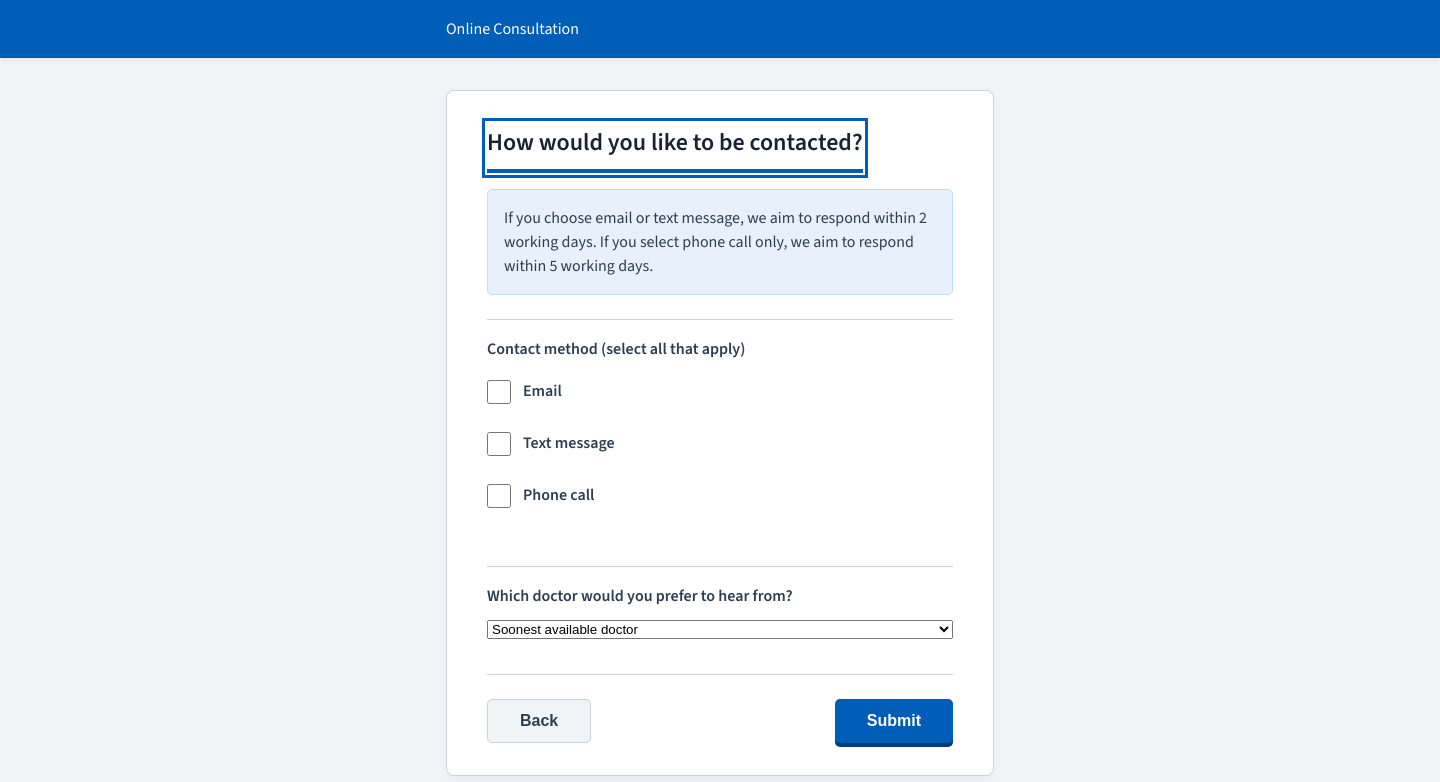
ContactScreen › email field appears when email is selected
Click the checkbox labelled "Email".
click(499, 392)  # box [487,380,511,404]
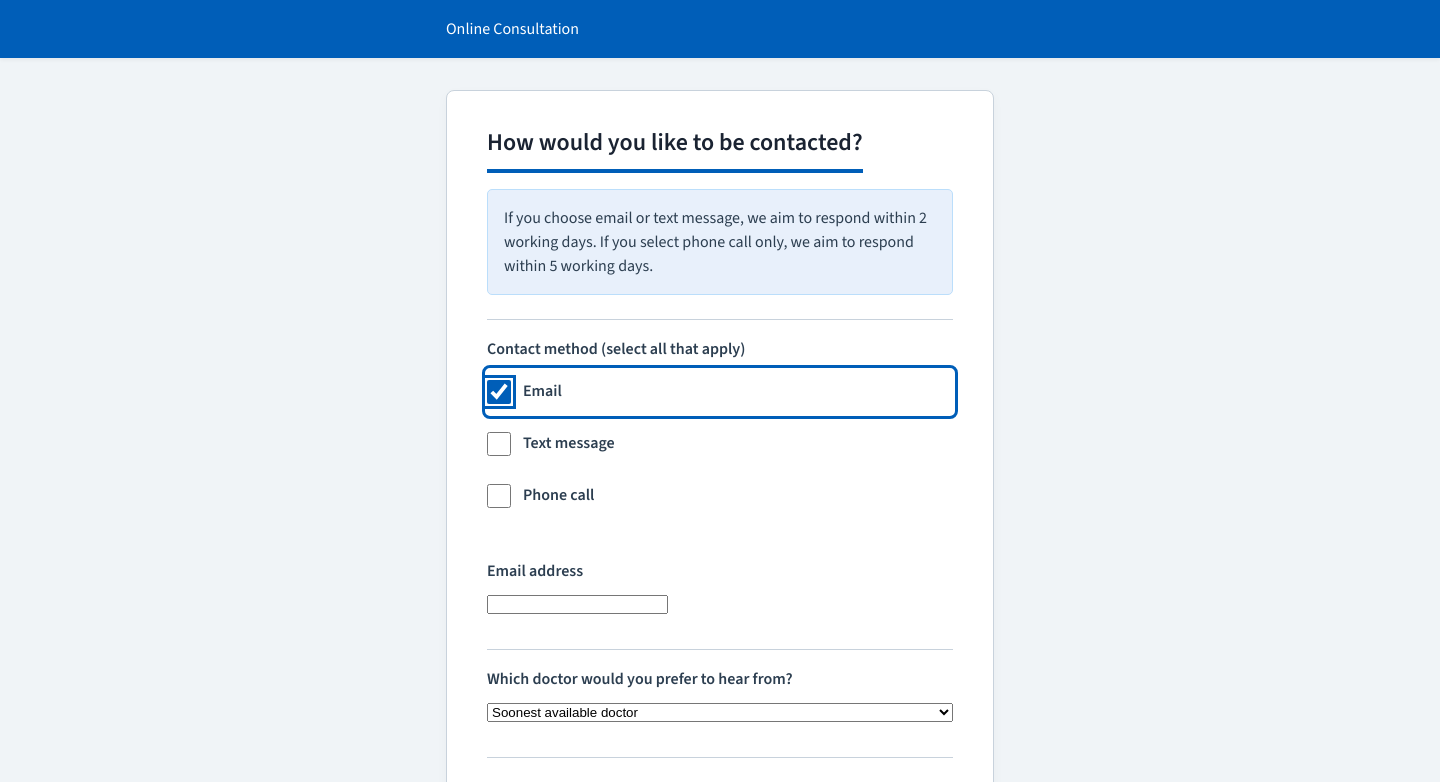
Expected: the field with id "contact-email" is shown, [487,595,668,614]
